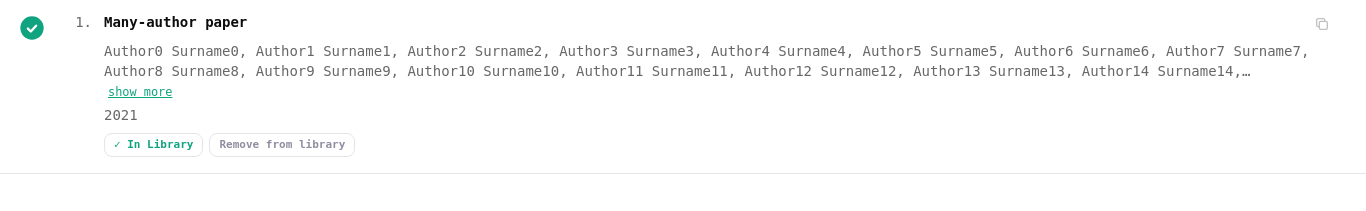
Scenario: ReferenceCard — author UI cluster (D1) › AuthorsLine: a very long author list gets a show-more/show-less toggle
The image size is (1366, 211).
Click the button "show more" at (140, 92), box [108,84,172,101]
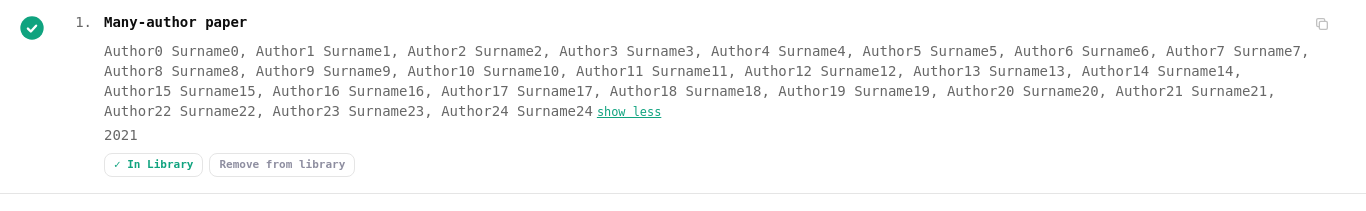
Result: the button "show less" is shown at [597,104,661,121]
